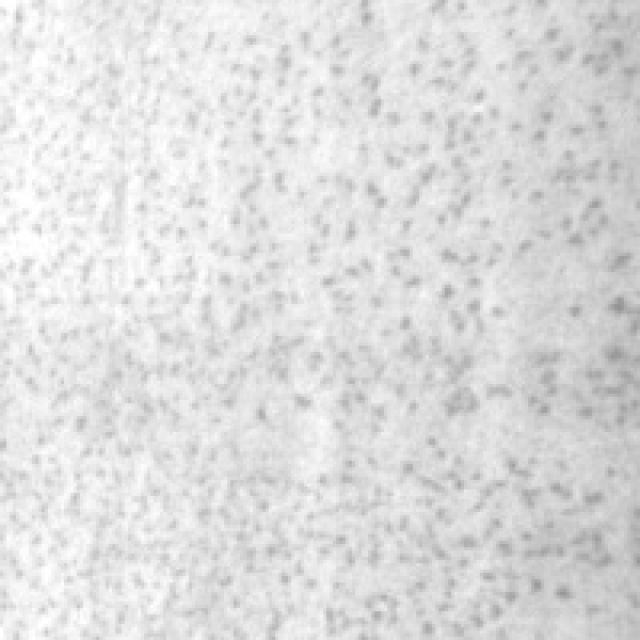pitted_surface: (0, 0, 486, 630), (429, 19, 630, 637)
